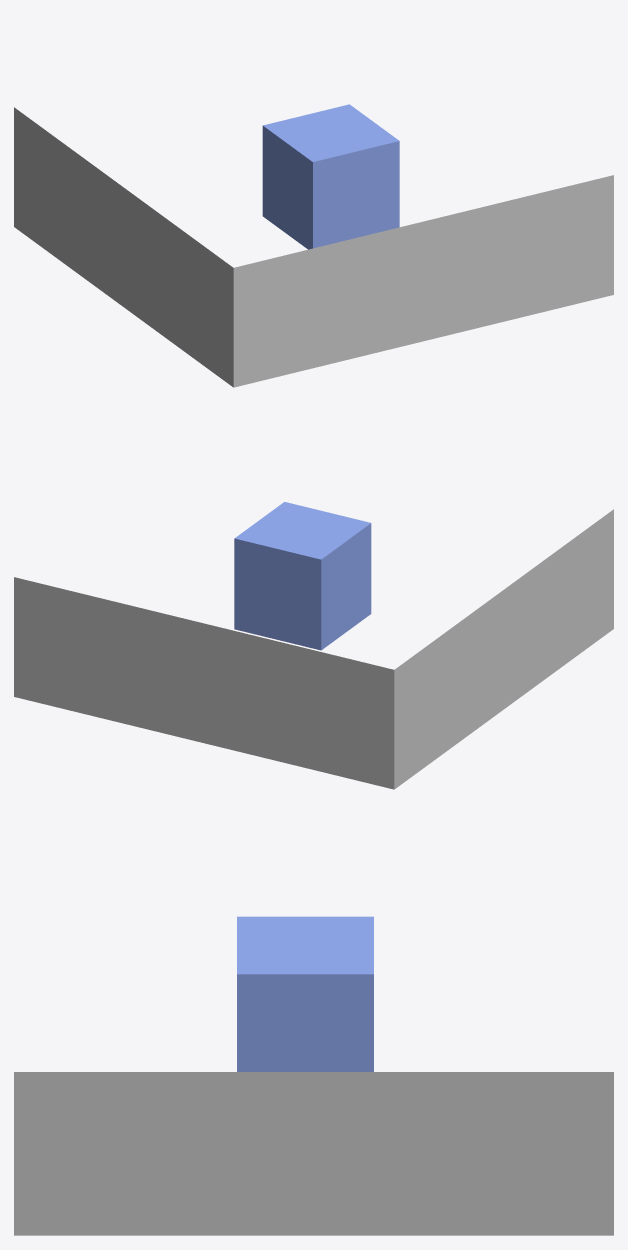
File: Briza.glb
3 renders of one model, top to bottom at view 1: azimuth 30°, elevation 25°; view 2: azimuth 150°, elevation 25°; view 3: azimuth 270°, elevation 25°, orthographic. The views are drawn at different scales.
Visible parts, largest first — view 1: LANTAI_BRIZA, KELUAR; view 2: LANTAI_BRIZA, KELUAR; view 3: LANTAI_BRIZA, KELUAR.
Boxes of the visible parts, x1,y1,x2,y2 form: LANTAI_BRIZA: (14,107,613,387); KELUAR: (262,104,399,249); LANTAI_BRIZA: (14,509,613,789); KELUAR: (234,502,371,650); LANTAI_BRIZA: (14,1072,613,1235); KELUAR: (237,916,373,1071).
Bounding box in the file's own units: 2 × 0.6354 × 2.
